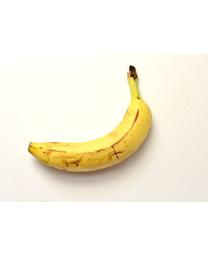banana: (24, 64, 154, 173)
